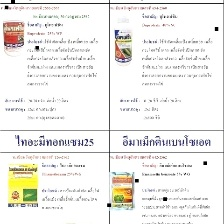insecticide: (6, 162, 40, 209), (107, 169, 137, 214), (0, 13, 25, 58), (112, 16, 133, 67)
